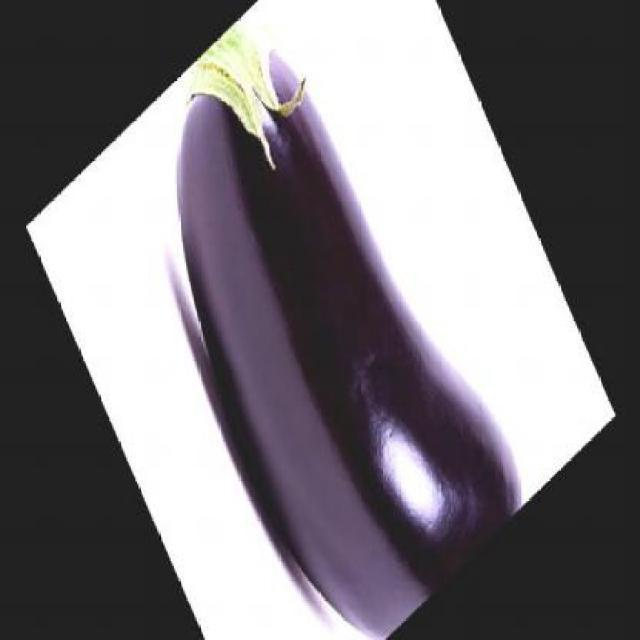eggplant: (166, 22, 534, 638)
